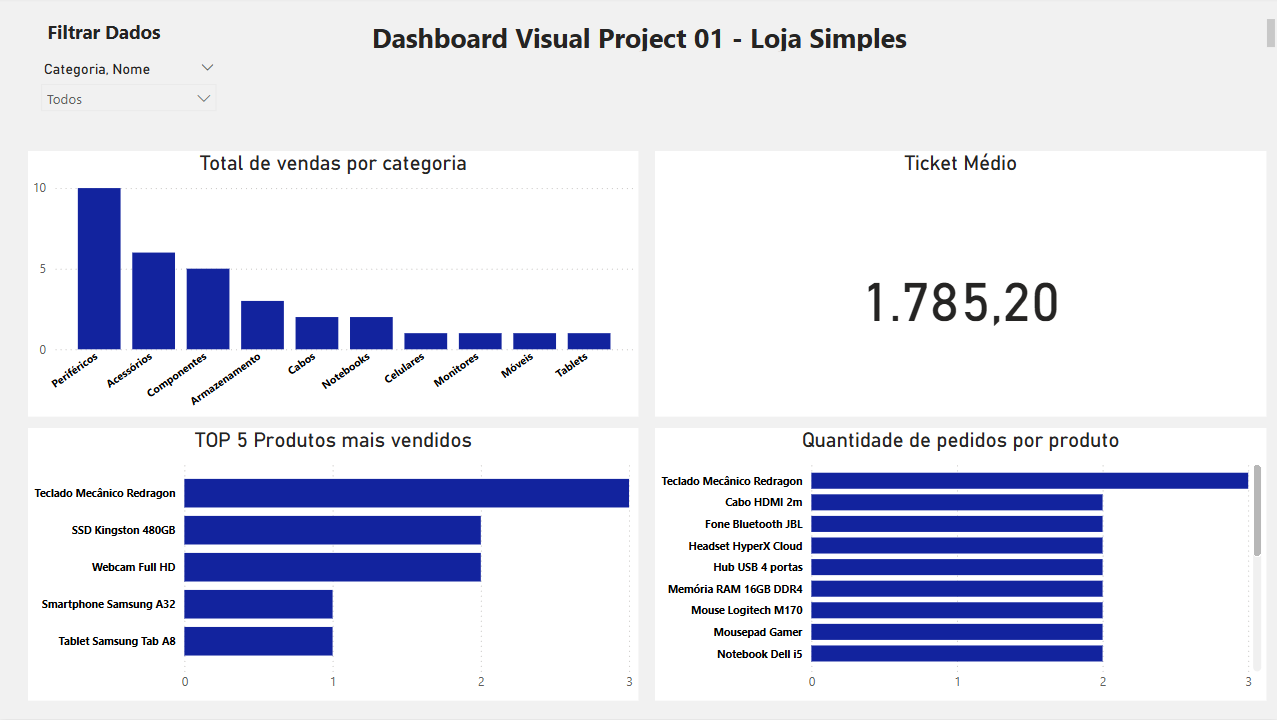

Layout of this report page (visuals, bound fields, positions):
{"tool":"powerbi","page":{"name":"Página 1","canvas":[1280,720],"ordinal":0},"visuals":[{"type":"textbox","box":[10.5,17.4,1269.5,41.8],"z":0},{"type":"clusteredColumnChart","title":"Total de vendas por categoria","fields":{"Category":["project01 products.category"],"Y":["CountNonNull(project01 order_items.product_id)"]},"box":[31.4,153.3,608.6,264.8],"z":1000},{"type":"barChart","title":"TOP 5 Produtos mais vendidos","fields":{"Category":["project01 products.name"],"Y":["CountNonNull(project01 order_items.order_id)"]},"box":[31.4,429.8,608.6,271.8],"z":2000},{"type":"barChart","title":"Quantidade de pedidos por produto","fields":{"Category":["project01 products.name"],"Y":["Count(project01 order_items.order_id)"]},"box":[656.3,429.8,609.8,271.8],"z":3000},{"type":"card","title":"Ticket Médio","fields":{"Values":["project01 products.TicketMedio"]},"box":[656.3,153.3,609.8,264.8],"z":4000},{"type":"slicer","fields":{"Values":["project01 products.category","project01 products.name"]},"box":[33.5,59.2,195.1,62.7],"z":5000},{"type":"textbox","box":[33.5,17.4,145.2,41.8],"z":5001}]}

Visuals, with their boxes in screenshot pixels (x1, y1, x2, y2), scaled from the page's 1280x720 canvas onto the 1277x720 screenshot:
textbox: <region>10, 17, 1276, 59</region>
"Total de vendas por categoria" clusteredColumnChart: <region>31, 153, 638, 418</region>
"TOP 5 Produtos mais vendidos" barChart: <region>31, 430, 638, 702</region>
"Quantidade de pedidos por produto" barChart: <region>655, 430, 1263, 702</region>
"Ticket Médio" card: <region>655, 153, 1263, 418</region>
slicer - project01 products.category x project01 products.name: <region>33, 59, 228, 122</region>
textbox: <region>33, 17, 178, 59</region>
